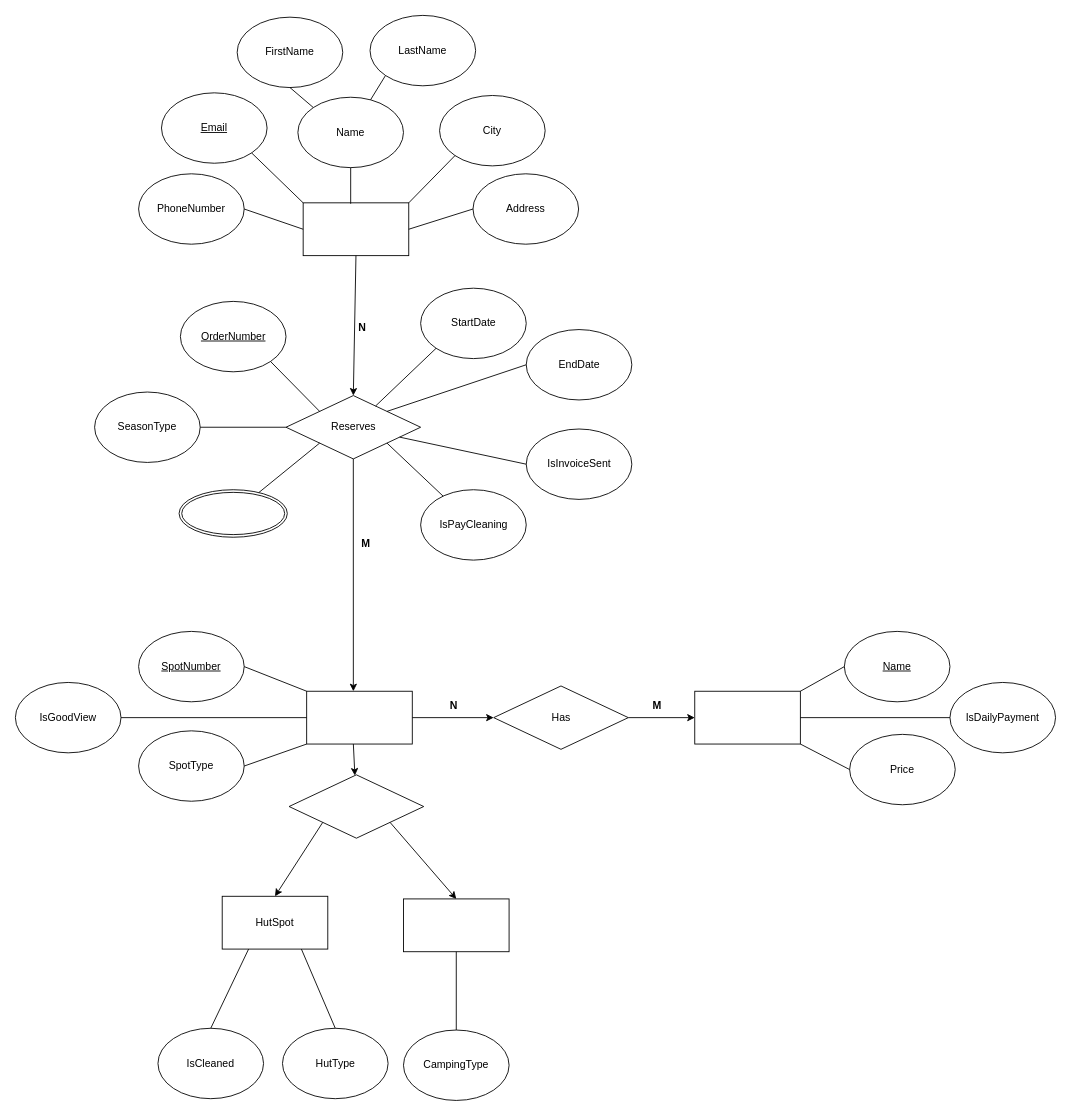
The diagram is 1071 pixels wide and 1116 high, and some of its shapes have lost their labels. Each missing label, with the centre of its shape:
Addition: the point at 747,717
CampingSpot: the point at 456,925
Customer: the point at 355,229
CustomerType: the point at 232,513
Either Has: the point at 356,806
Spot: the point at 359,717
